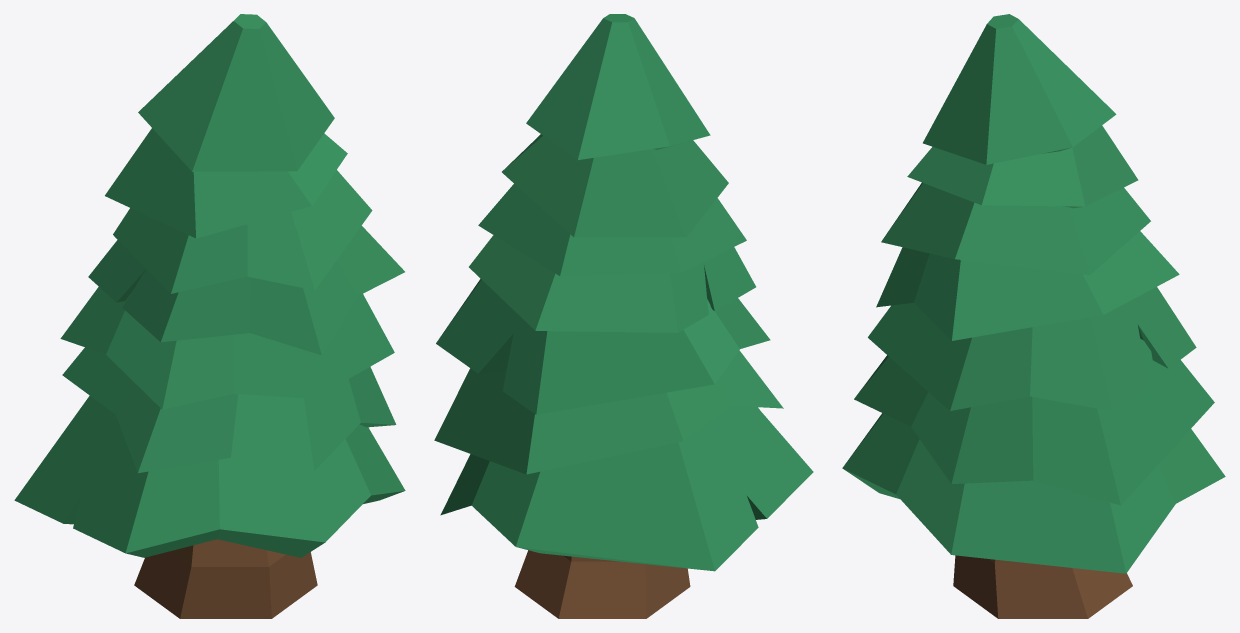
The model's file is Tundra_Tree_Big_Tanne.fbx.
3 renders of one model, left to right at view 1: azimuth 30°, elevation 25°; view 2: azimuth 150°, elevation 25°; view 3: azimuth 270°, elevation 25°, orthographic. The views are drawn at different scales.
Visible parts, largest first — view 1: Cylinder.007; view 2: Cylinder.007; view 3: Cylinder.007.
Part boxes in pixels (x1,y1,x2,y2): Cylinder.007: (14,14,405,618); Cylinder.007: (434,14,813,618); Cylinder.007: (842,14,1225,618).
Size of the model in its own units: 630 by 1150 by 704.
